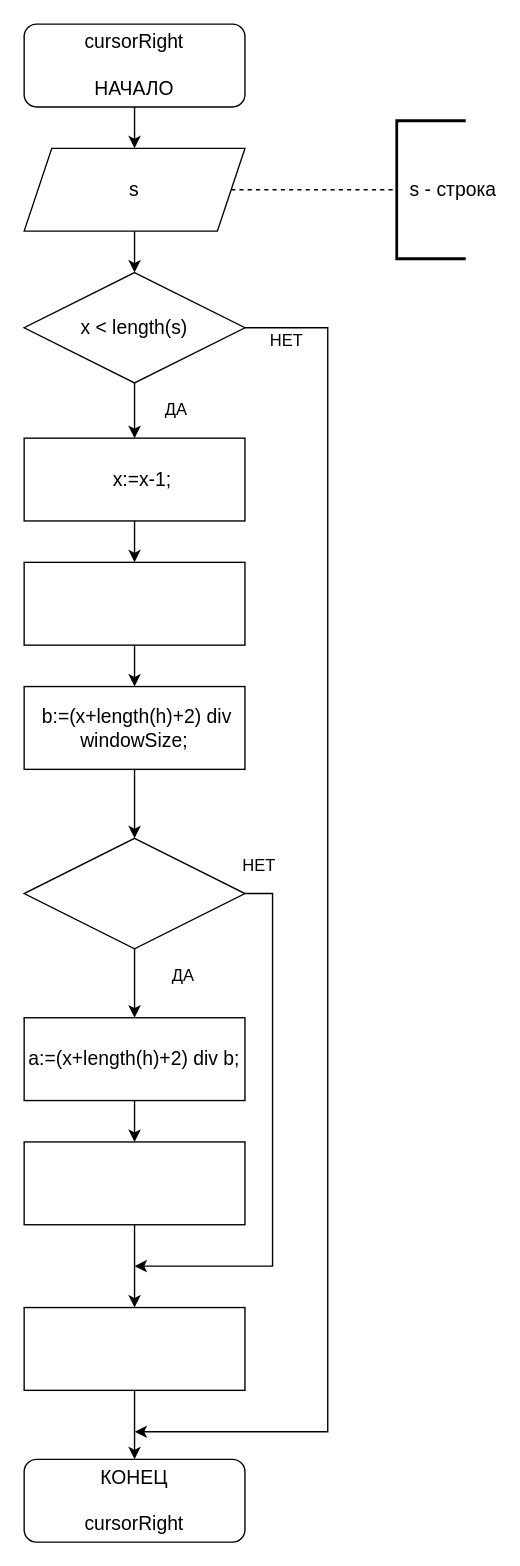
Image size: 520x1566. Some labels were removed from this diagram. The shapes that lost their labels are listed below. From the top down, each one's centre as x and y in pixels, then its label:
At pixel 134 603: "a:=(x+length(h)+2) mod windowSize;".
At pixel 134 893: "a = 0".
At pixel 134 1183: "b:=b-1;".
At pixel 134 1348: "gotoxy(a,curY+b);".
